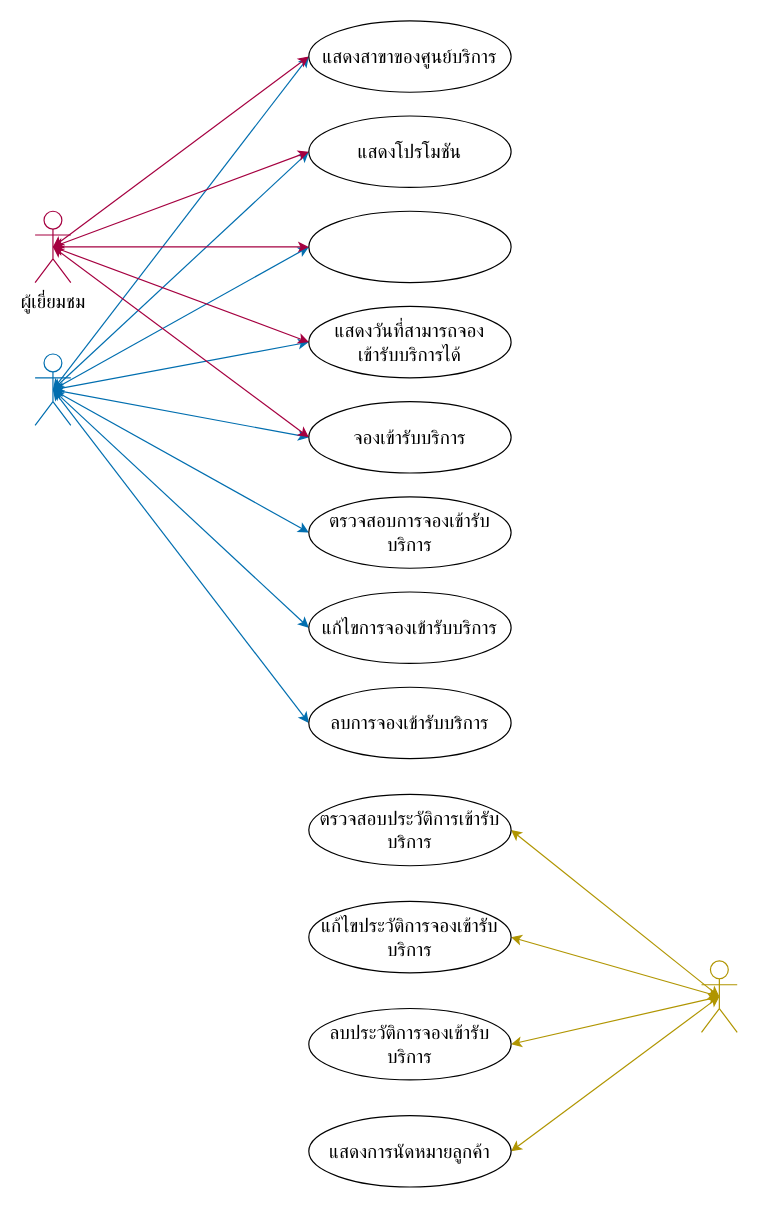
This 769x1208 diagram has some shape labels left out. Here are the shapes that lost their labels. From the top down, the centre of each, then its label:
At pixel 409 246: "แสดงสินค้า".
At pixel 52 389: "ลูกค้า".
At pixel 718 996: "พนักงาน".
